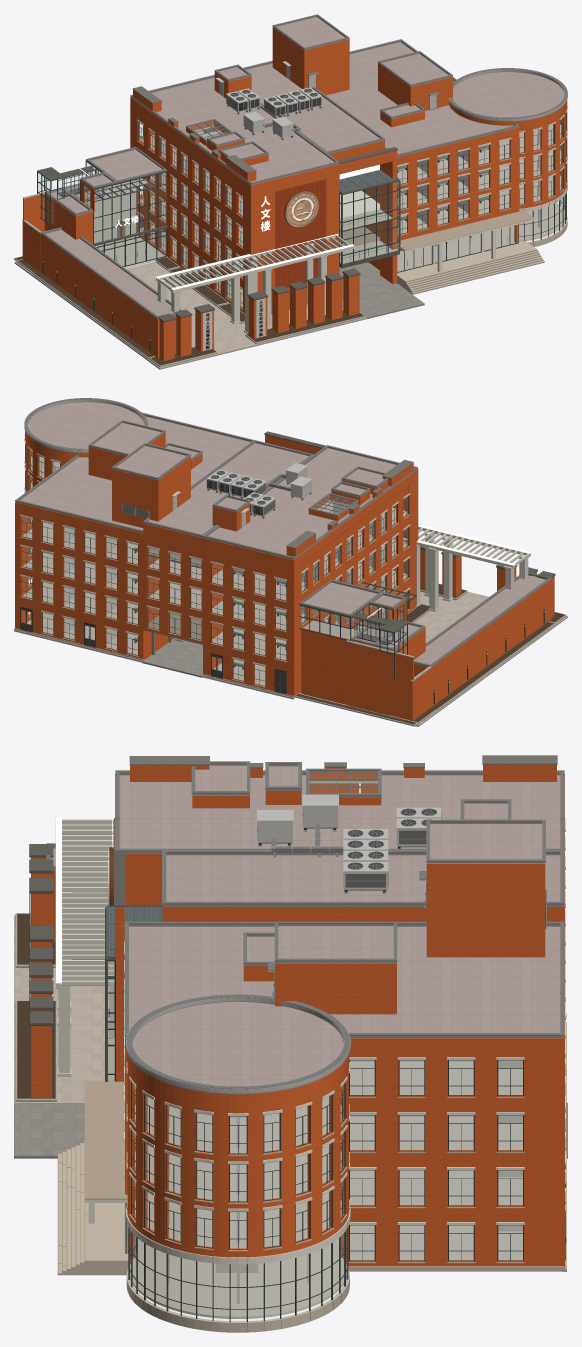
Rendered from humanities_replica.glb.
3 renders of one model, top to bottom at view 1: azimuth 30°, elevation 25°; view 2: azimuth 150°, elevation 25°; view 3: azimuth 270°, elevation 25°, orthographic. The views are drawn at different scales.
Visible parts, largest first — view 1: 建筑外壳 | 人文楼, 屋面 | 铺装、收边与机电, 入口标识 · 门廊 · 玻璃连桥, 05 · 广场与花池 | Stonework; view 2: 建筑外壳 | 人文楼, 屋面 | 铺装、收边与机电, 05 · 广场与花池 | Stonework, 入口标识 · 门廊 · 玻璃连桥; view 3: 建筑外壳 | 人文楼, 屋面 | 铺装、收边与机电, 入口标识 · 门廊 · 玻璃连桥, 05 · 广场与花池 | Stonework.
Part boxes in pixels (left/top/right/bottom): 建筑外壳 | 人文楼: left=41, top=86, right=567, bottom=358; 屋面 | 铺装、收边与机电: left=40, top=14, right=567, bottom=319; 入口标识 · 门廊 · 玻璃连桥: left=37, top=147, right=400, bottom=360; 05 · 广场与花池 | Stonework: left=14, top=192, right=424, bottom=369; 建筑外壳 | 人文楼: left=14, top=431, right=551, bottom=706; 屋面 | 铺装、收边与机电: left=15, top=398, right=551, bottom=666; 05 · 广场与花池 | Stonework: left=142, top=583, right=567, bottom=726; 入口标识 · 门廊 · 玻璃连桥: left=264, top=431, right=555, bottom=678; 建筑外壳 | 人文楼: left=52, top=755, right=566, bottom=1332; 屋面 | 铺装、收边与机电: left=46, top=761, right=564, bottom=1094; 入口标识 · 门廊 · 玻璃连桥: left=29, top=811, right=162, bottom=1097; 05 · 广场与花池 | Stonework: left=14, top=913, right=567, bottom=1158.
Bounding box in the file's own units: 63.28 × 23.32 × 35.44.
60 materials, 7 textured.
